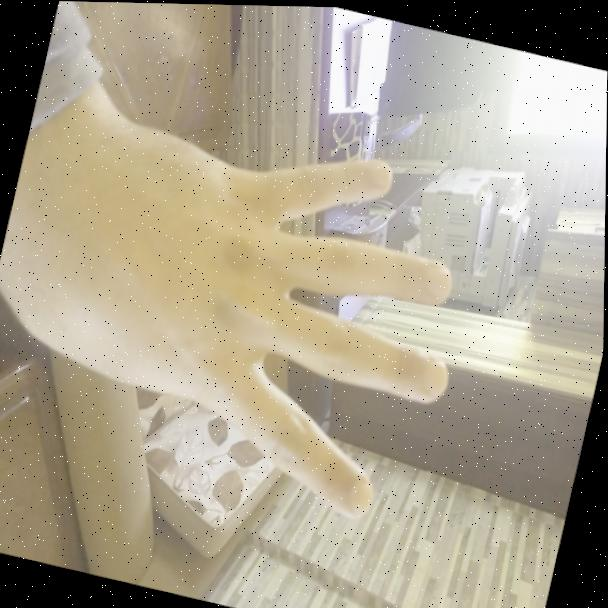four: (0, 83, 497, 536)
